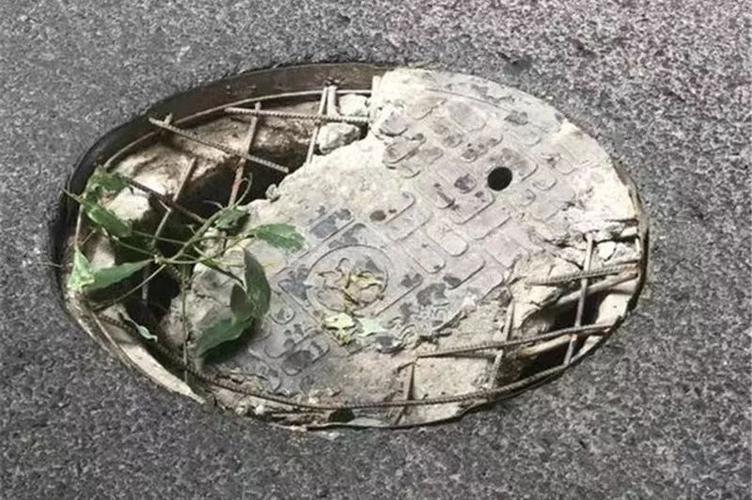broke: (39, 51, 657, 437)
